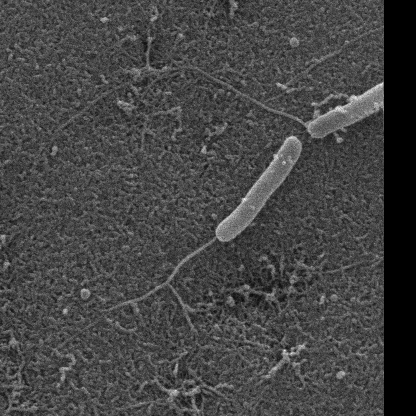cell2surface: (187, 66, 312, 126), (114, 237, 218, 308)
regular: (215, 135, 303, 240), (307, 84, 384, 138)
